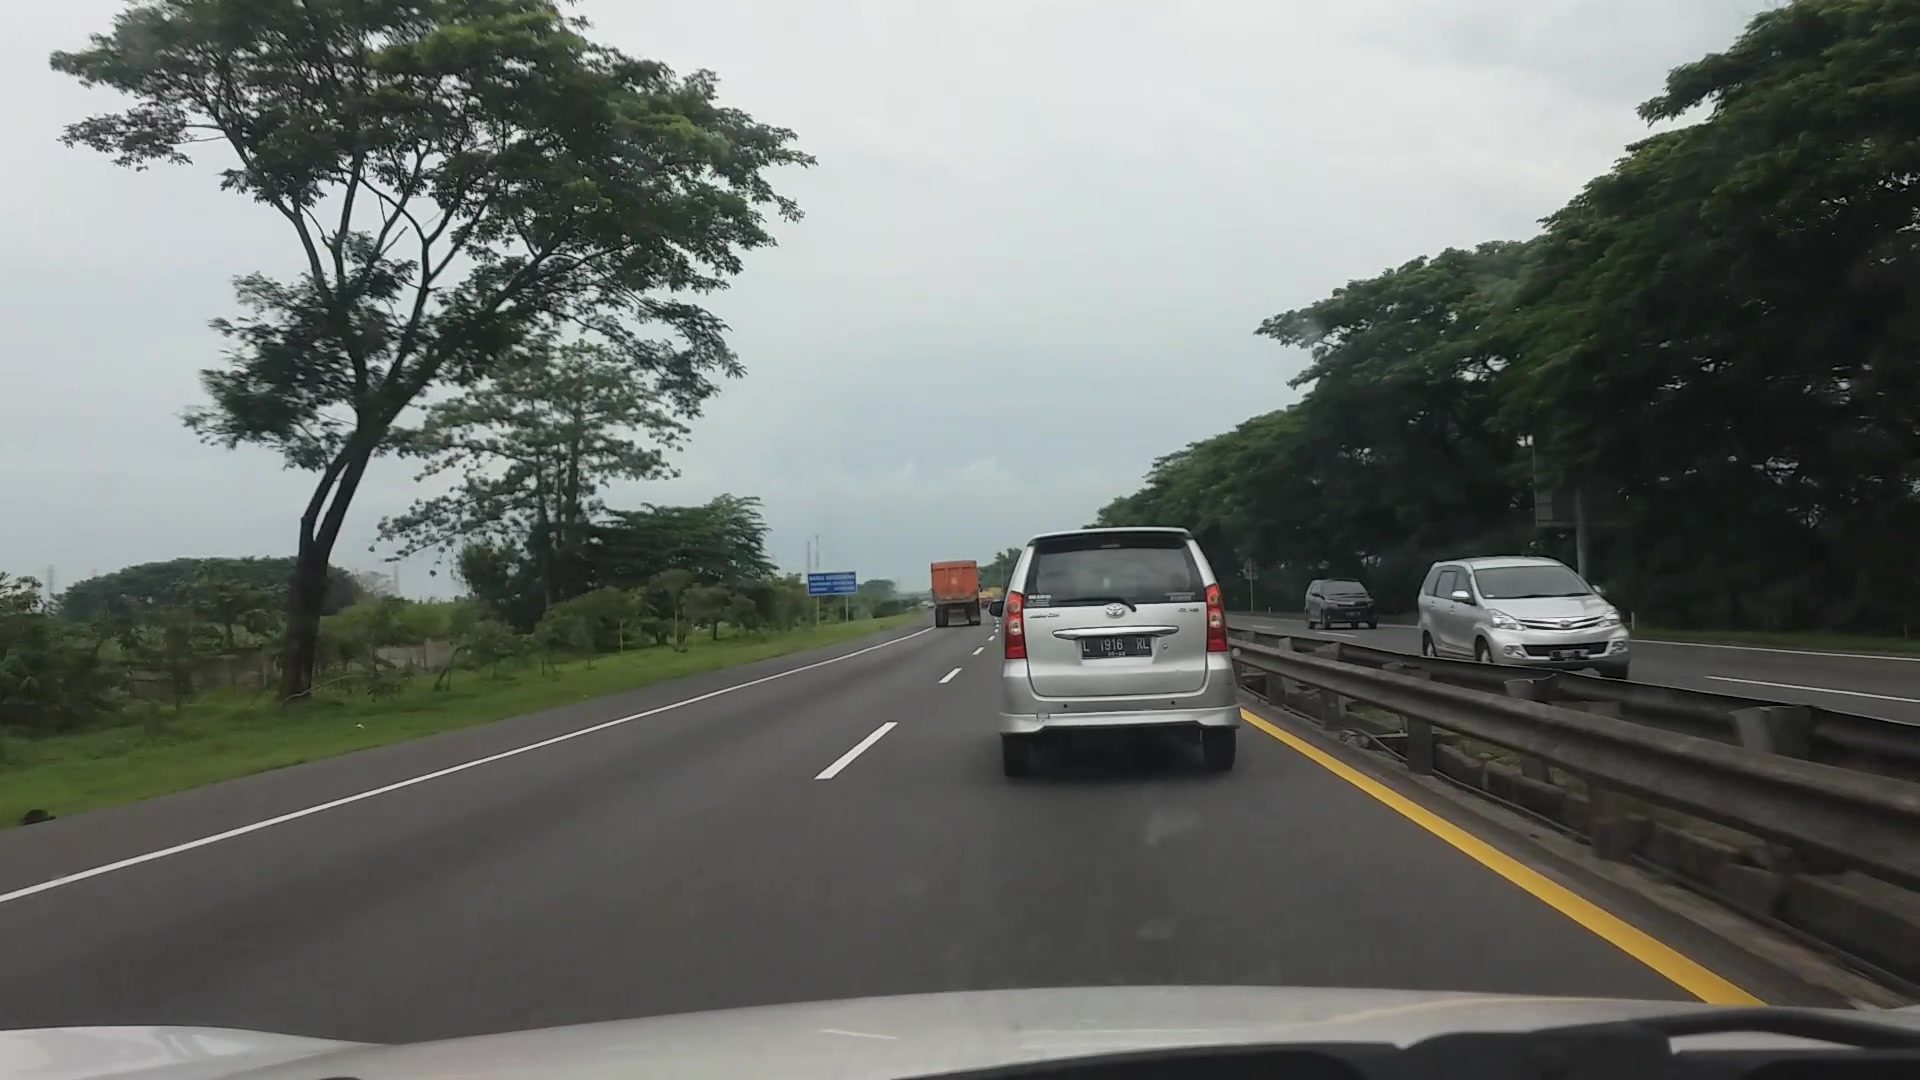plate_positive: (1083, 636, 1151, 659)
